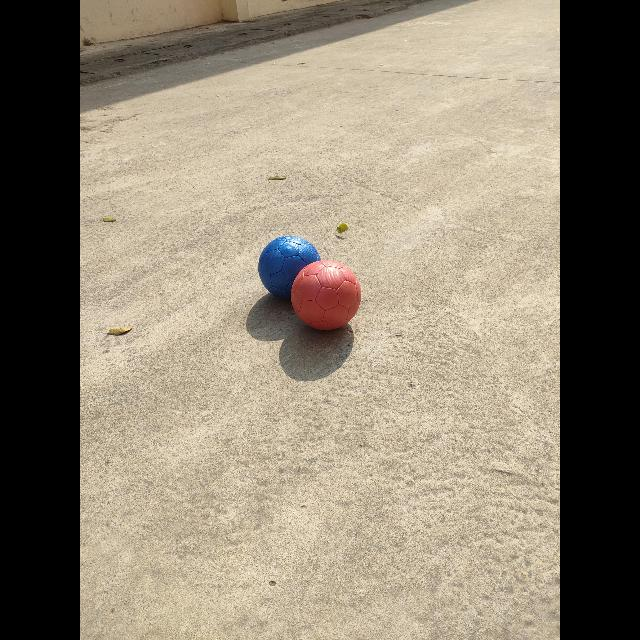B: (258, 236, 321, 297)
R: (291, 260, 362, 330)
